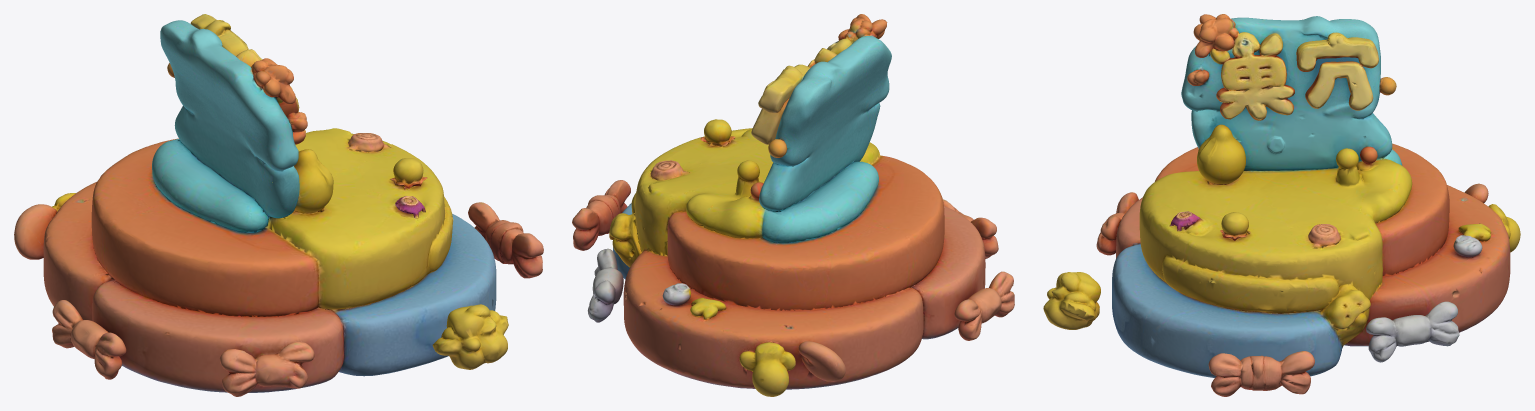
File: env_nest_cake_01.glb
The picture shows the model from 3 angles, left to right: view 1: azimuth 30°, elevation 25°; view 2: azimuth 150°, elevation 25°; view 3: azimuth 270°, elevation 25°; orthographic projection. The views are drawn at different scales.
Visible parts, largest first — view 1: tripo_node_66543e90-8d32-44bc-89b3-3fe7032ff8d0; view 2: tripo_node_66543e90-8d32-44bc-89b3-3fe7032ff8d0; view 3: tripo_node_66543e90-8d32-44bc-89b3-3fe7032ff8d0.
Part boxes in pixels (box(x1,y1,x2,y2)): tripo_node_66543e90-8d32-44bc-89b3-3fe7032ff8d0: box(14, 14, 543, 396); tripo_node_66543e90-8d32-44bc-89b3-3fe7032ff8d0: box(572, 14, 1014, 396); tripo_node_66543e90-8d32-44bc-89b3-3fe7032ff8d0: box(1043, 14, 1520, 396).
Size of the model in its own units: 2.56 by 1.6 by 2.59.
1 material, 1 textured.
